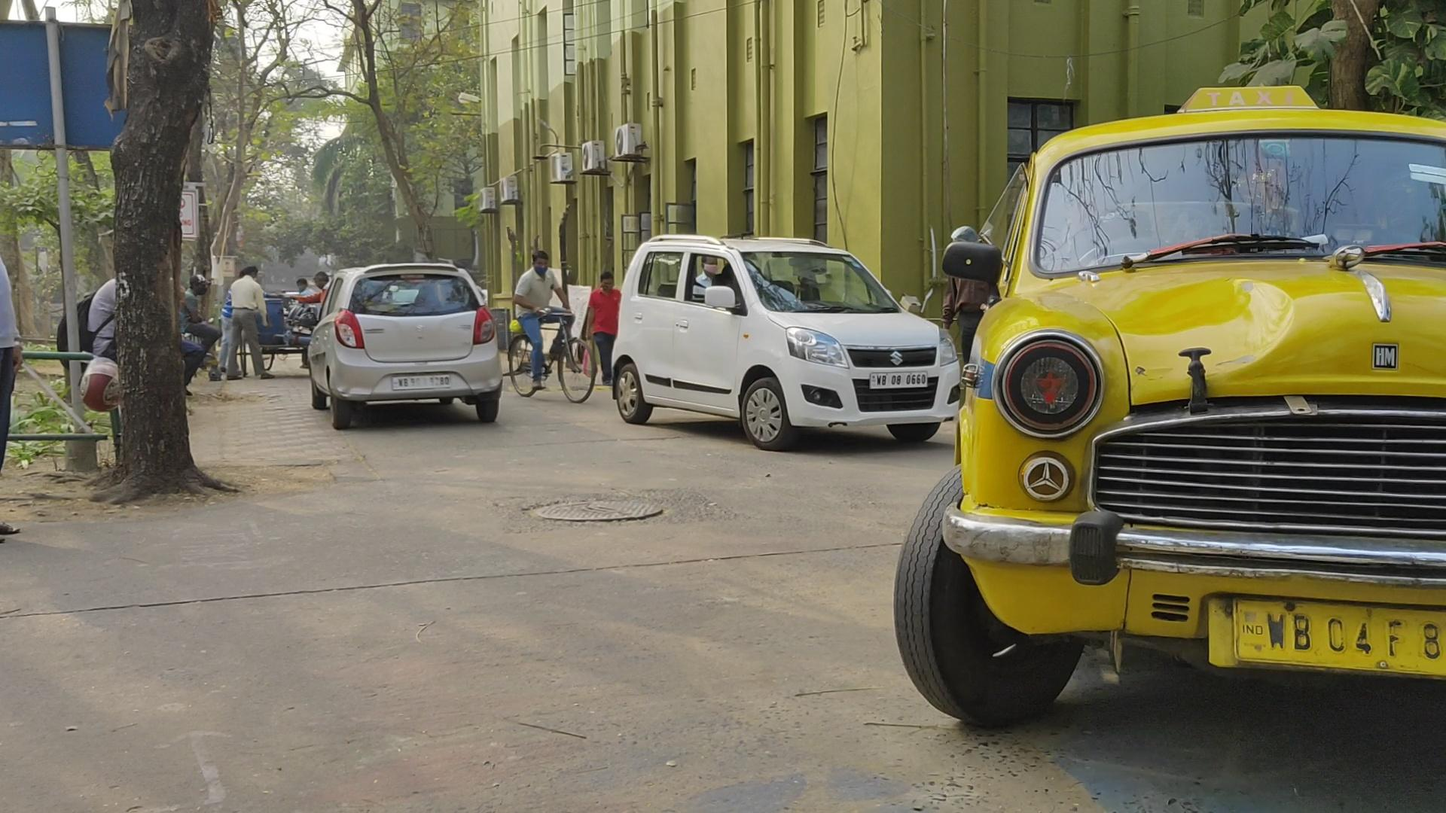bike: (505, 252, 596, 403), (229, 266, 276, 380)
car: (893, 86, 1446, 726), (611, 233, 963, 452), (309, 261, 503, 430)
